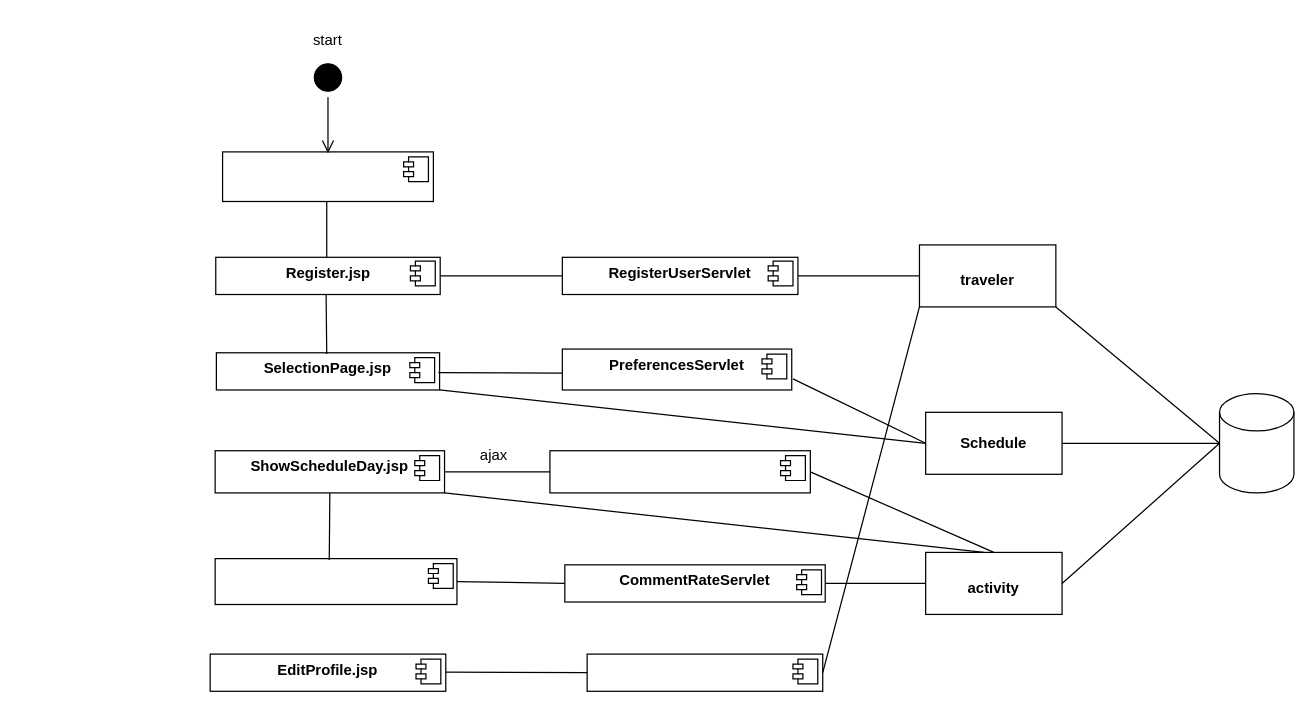
Image size: 1316x713. Some labels were removed from this diagram. Here are the shapes that lost their labels. From the top down, the centre of each, then its label:
At point (327, 176): "WelcomePage.jsp".
At point (1256, 442): "Database".
At point (679, 471): "ShowActivityDetails.servlet".
At point (335, 580): "ShowOverallSchedule.jsp".
At point (704, 672): "EditProfileUserServlet".
